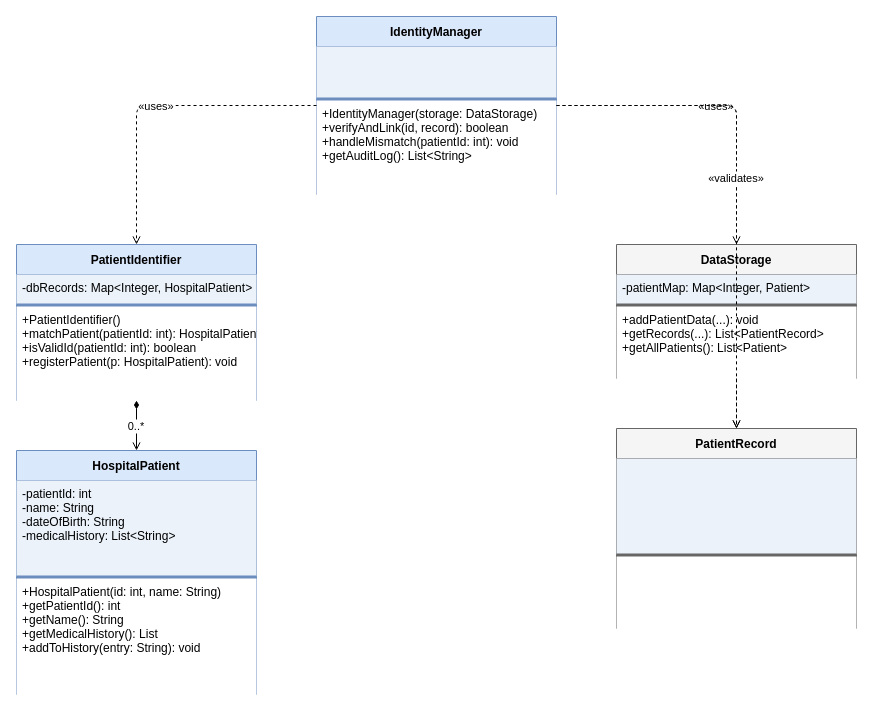
Some shapes in this 873 by 713 pixel diagram are drawn without their labels. Each missing label, with the centre of its shape:
"+getPatientId(): int +getRecordType(): String +getMeasurementValue(): double" belongs at (x=736, y=593).
"-identifier: PatientIdentifier -dataStorage: DataStorage" belongs at (x=436, y=72).
"-patientId: int -recordType: String -measurementValue: double -timestamp: long" belongs at (x=736, y=506).
